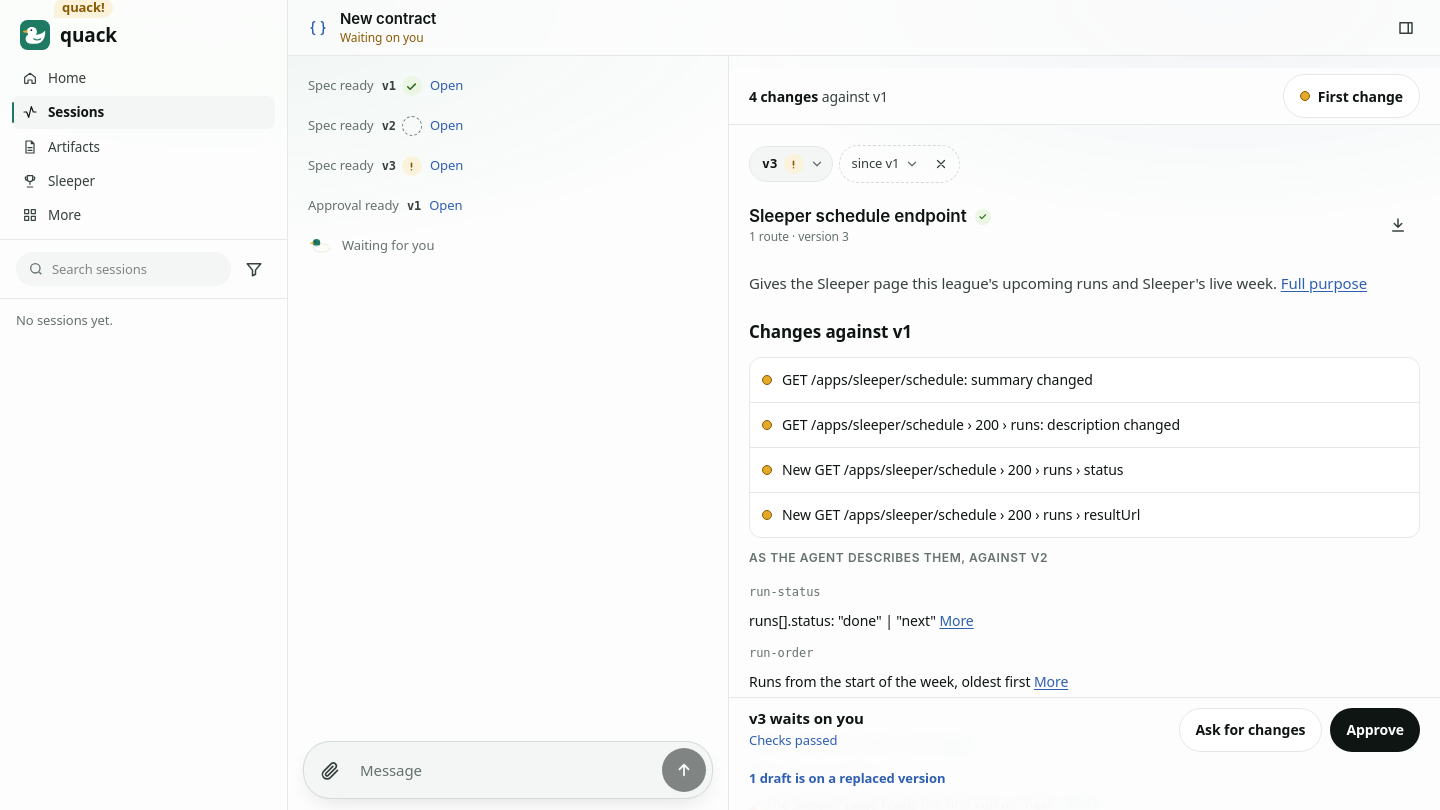
a Move whose anchor is gone from the new version keeps the old draft and says so
Check: the element named "Approval" shows "v3 waits on you", box [749,707,864,727]
Check: the button "Ask for changes" is shown, box [1178,708,1322,752]
Click the button "1 draft is on a replaced version" at (847, 778), box [749,756,945,800]
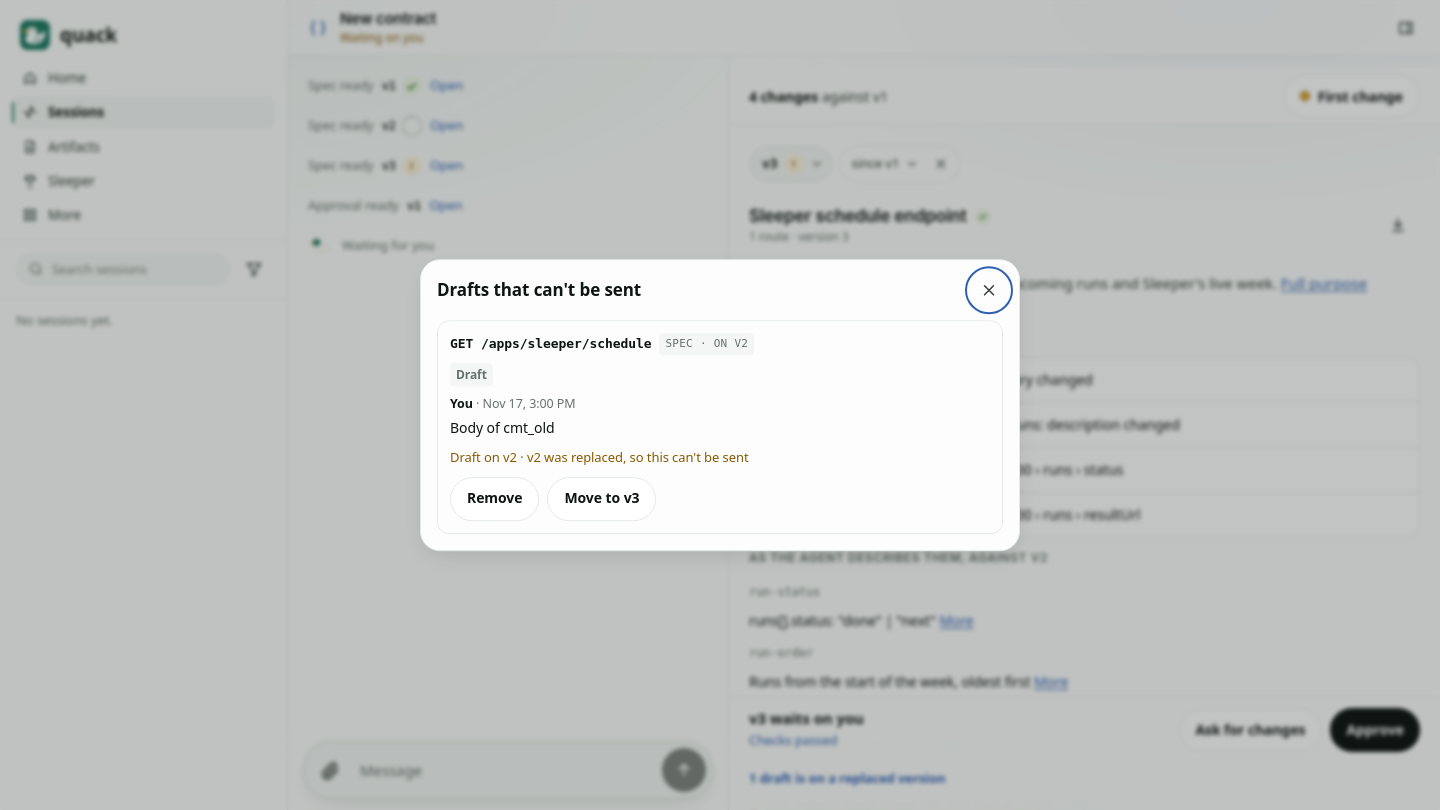
Check: the dialog "Drafts that can't be sent" shows "Draft on v2 · v2 was replaced, so this can't be sent", box [420,259,1020,551]
Click the button "Move to v3" at (602, 499), box [547,477,656,521]
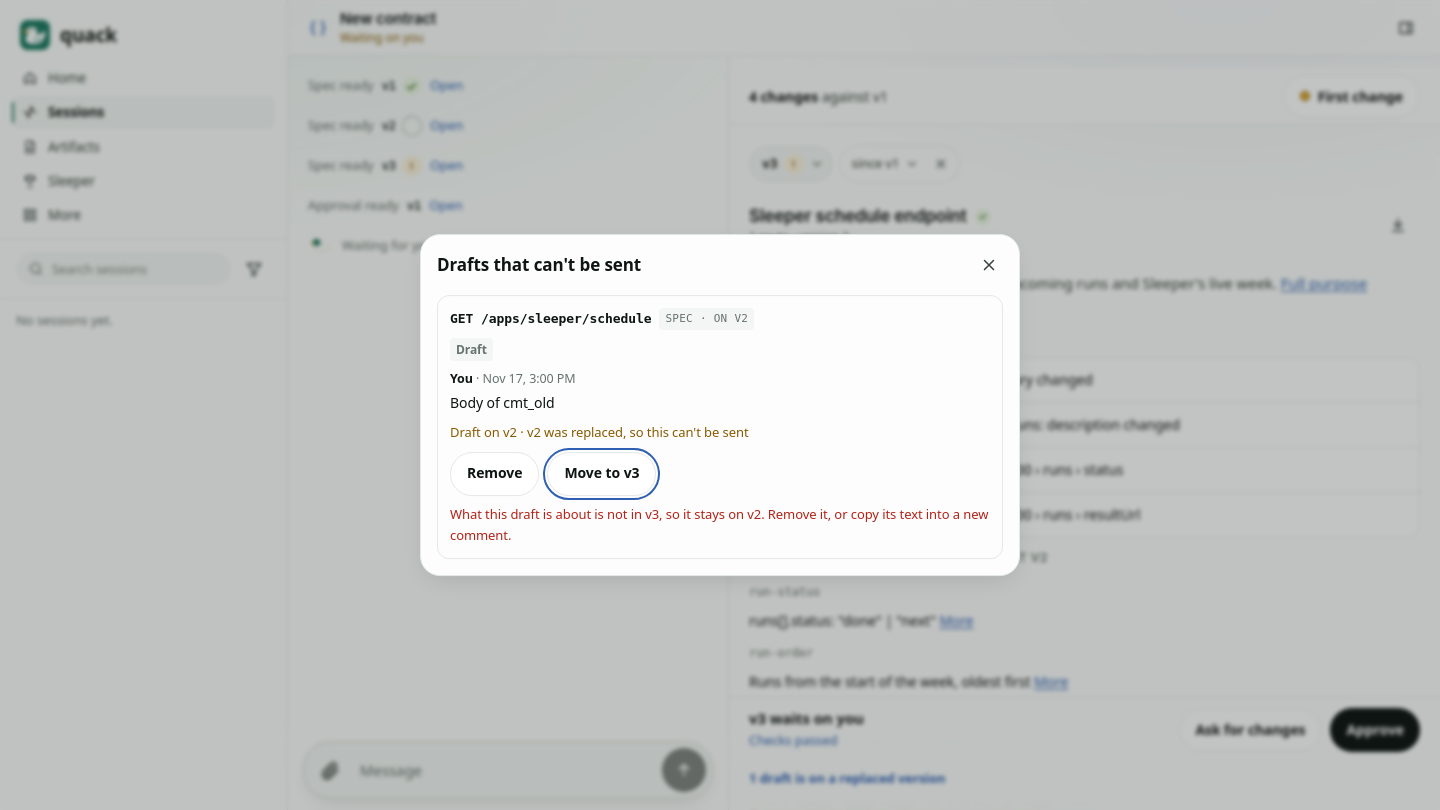
Check: the message shows "What this draft is about is not in v3, so it stays on v2. Remove it, or copy its text into a new comment.", box [450,505,988,544]
